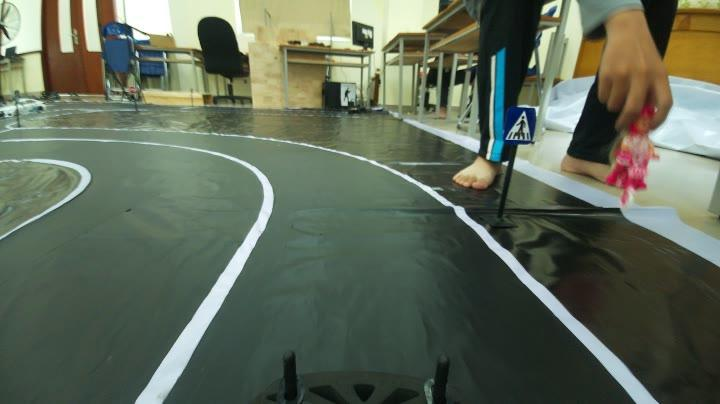crosswalk: (503, 106, 537, 146)
